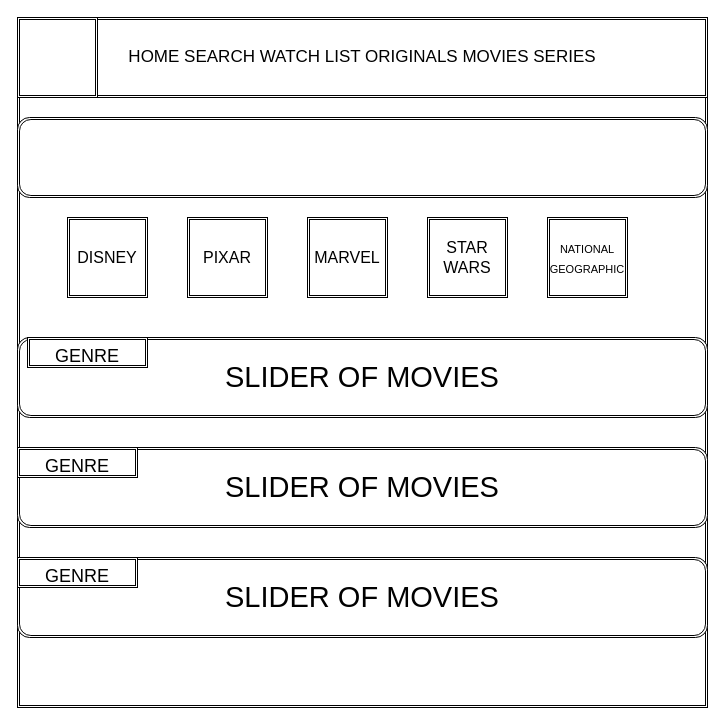
This 725x725 diagram has some shape labels left out. The shapes that lost their labels are listed below. From the top down, each one's centre as x and y in pixels, then its label:
At point (57, 57): "LOGO".
At point (362, 157): "SLIDER SHOWING TRENDING MOVIES".
